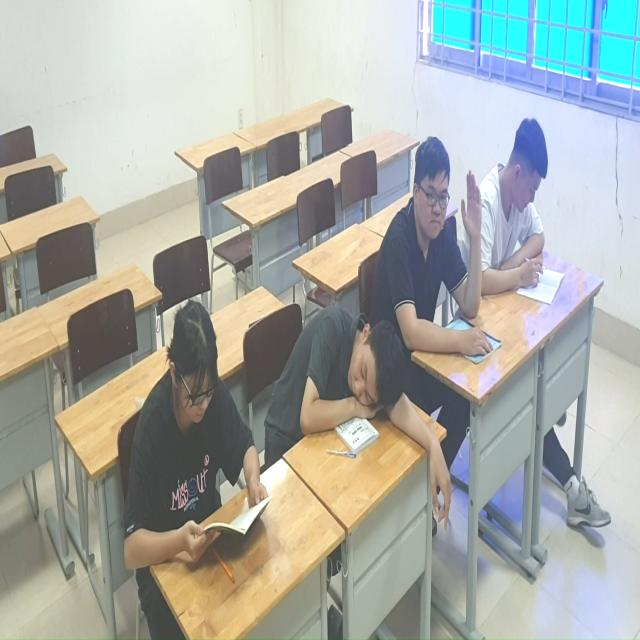raise_hand: (389, 131, 493, 354)
read: (121, 272, 294, 640), (473, 117, 573, 321)
sleep: (292, 298, 455, 536)
